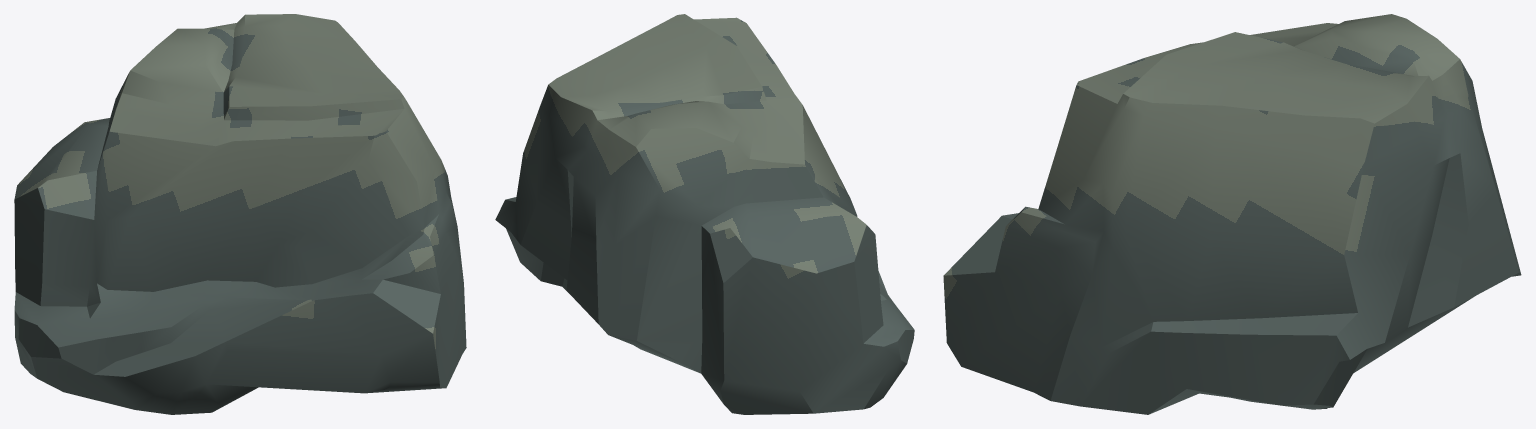
The model's file is rock-low-slab.glb.
3 views of the same model, side by side, from view 1: azimuth 30°, elevation 25°; view 2: azimuth 150°, elevation 25°; view 3: azimuth 270°, elevation 25° (orthographic). The views are drawn at different scales.
Visible parts, largest first — view 1: rock-low-slab runtime mesh; view 2: rock-low-slab runtime mesh; view 3: rock-low-slab runtime mesh.
Boxes of the visible parts, x1,y1,x2,y2 form: rock-low-slab runtime mesh: [14, 14, 466, 414]; rock-low-slab runtime mesh: [495, 14, 914, 414]; rock-low-slab runtime mesh: [943, 14, 1521, 414].
Bounding box in the file's own units: 1.18 × 0.8 × 1.2.
1 material, 1 textured.
